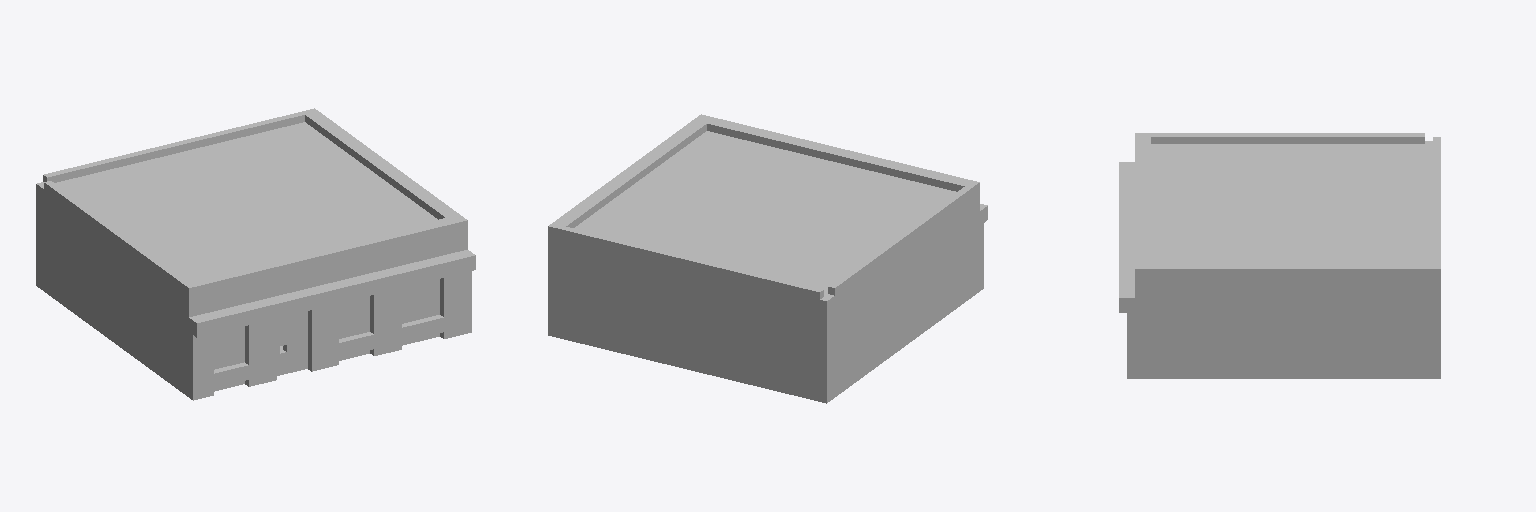
File: store.obj
3 renders of one model, left to right at view 1: azimuth 30°, elevation 25°; view 2: azimuth 150°, elevation 25°; view 3: azimuth 270°, elevation 25°, orthographic.
Size of the model in its own units: 40 by 15 by 40.